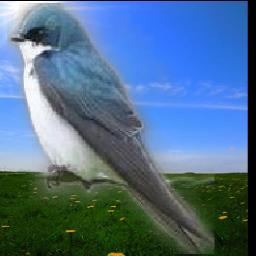Swallow: (7, 4, 215, 255)
